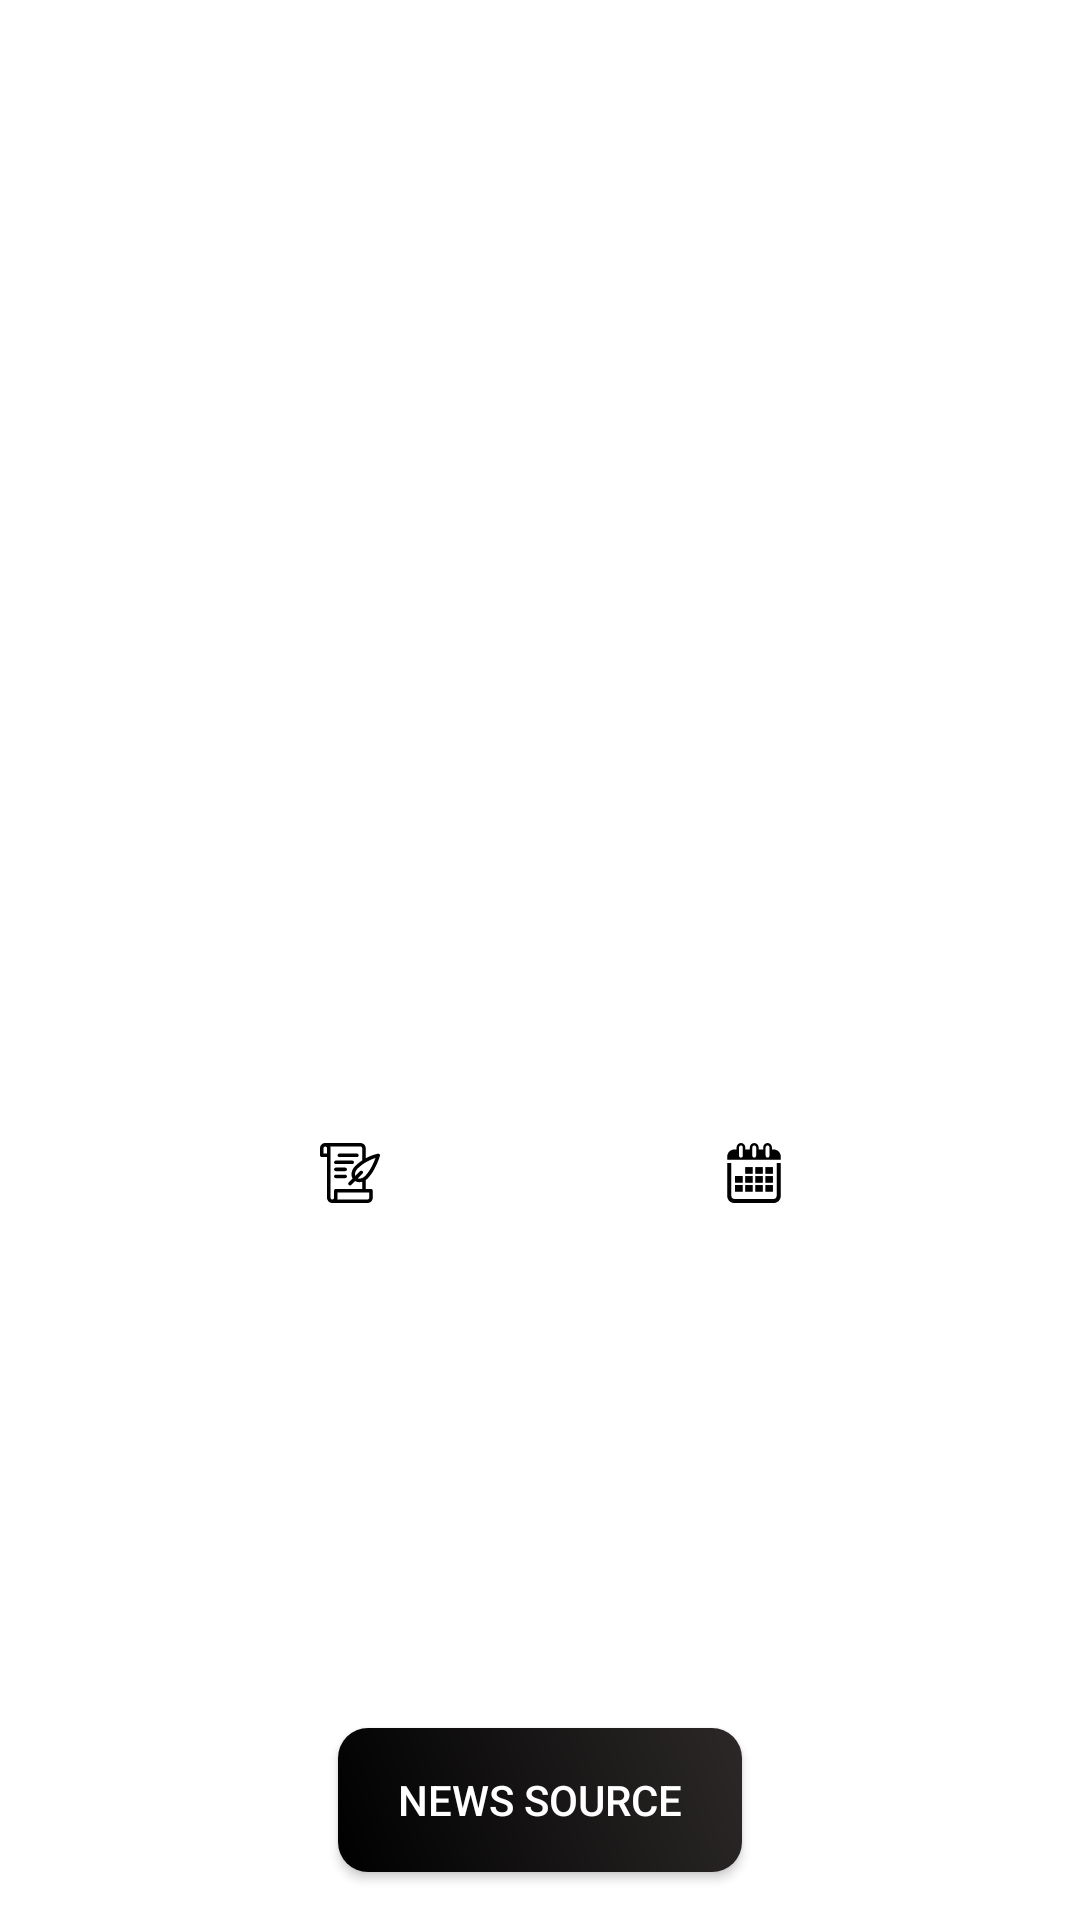

Screen size 1080*1920. Icon name, then its center in pixels as (x,y):
Author: (350,1173)
Calendar: (754,1173)
